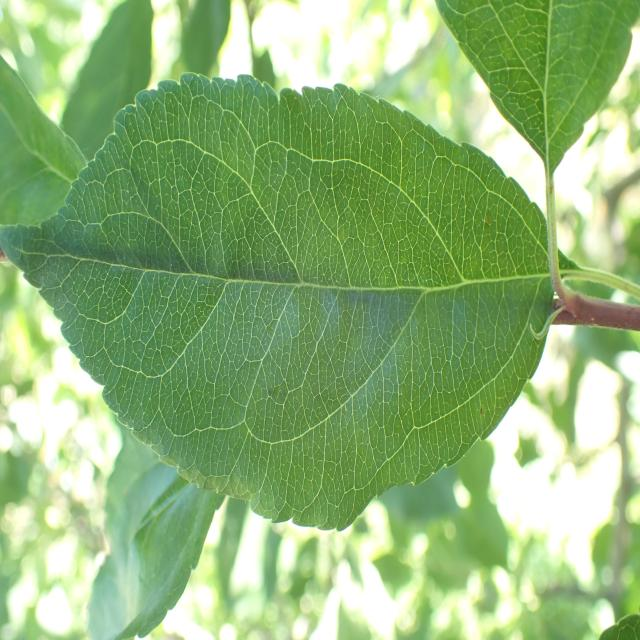healthy: (1, 71, 556, 532), (435, 0, 640, 165), (85, 465, 225, 640), (0, 51, 86, 228)
